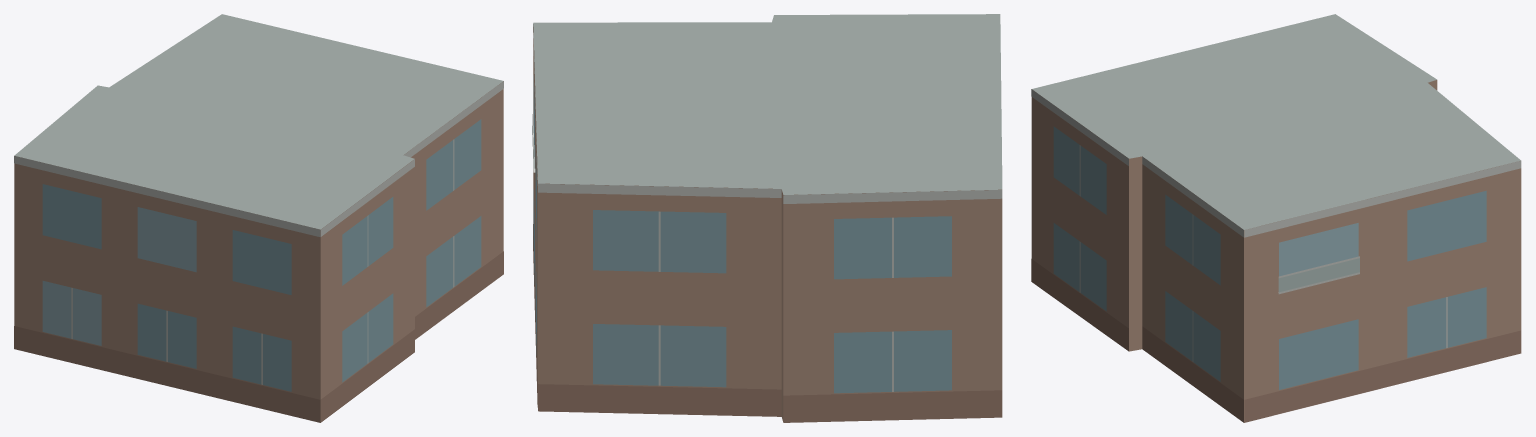
File: survey-upis-32945989.glb
3 renders of one model, left to right at view 1: azimuth 30°, elevation 25°; view 2: azimuth 150°, elevation 25°; view 3: azimuth 270°, elevation 25°, orthographic. The views are drawn at different scales.
Parts seen in each view (by area): view 1: survey-upis-32945989.tmp; view 2: survey-upis-32945989.tmp; view 3: survey-upis-32945989.tmp.
Part boxes in pixels (x1,y1,x2,y2): survey-upis-32945989.tmp: (14, 14, 503, 422); survey-upis-32945989.tmp: (532, 14, 1002, 422); survey-upis-32945989.tmp: (1031, 14, 1521, 422).
Size of the model in its own units: 14.67 by 6.1 by 14.05.
